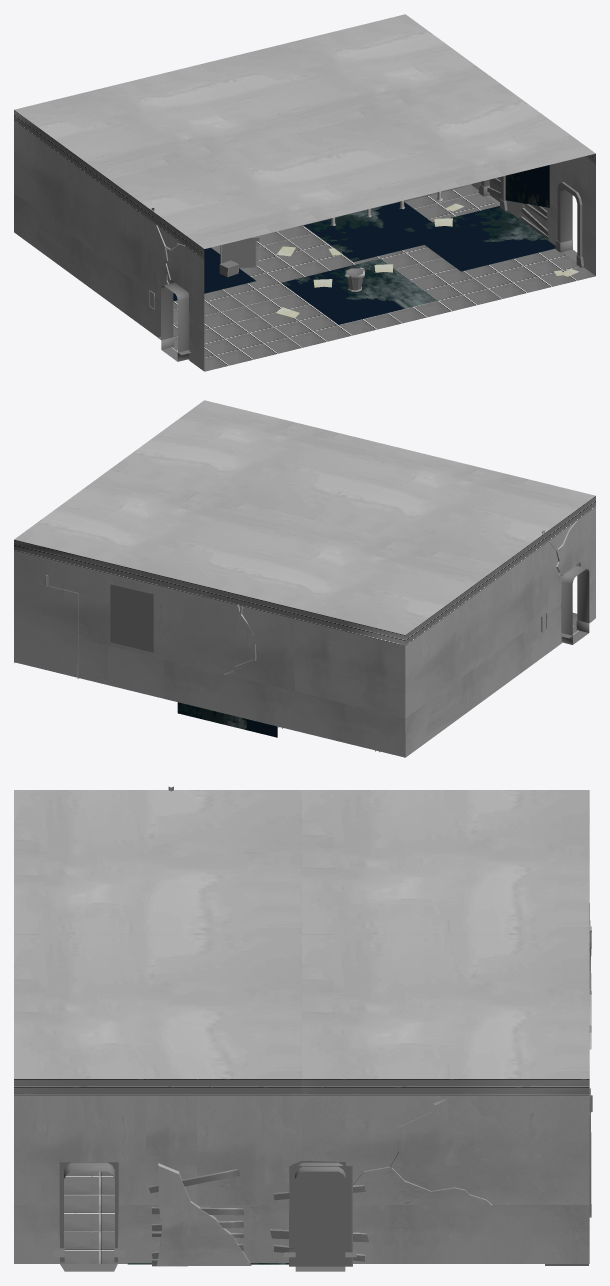
Rendered from MSH_QuestStandard_L4_R2_optimized.fbx.
The picture shows the model from 3 angles, top to bottom: view 1: azimuth 30°, elevation 25°; view 2: azimuth 150°, elevation 25°; view 3: azimuth 270°, elevation 25°; orthographic projection. The views are drawn at different scales.
Visible parts, largest first — view 1: lightmap3, lightmap1, lightmap4, lightmap0, lightmap-1; view 2: lightmap3, lightmap1, lightmap0; view 3: lightmap3, lightmap1, lightmap0, lightmap4.
Boxes of the visible parts, left/top/right/bottom form: lightmap3: left=14, top=14, right=595, bottom=248; lightmap1: left=14, top=110, right=595, bottom=371; lightmap4: left=171, top=185, right=595, bottom=371; lightmap0: left=149, top=165, right=555, bottom=324; lightmap-1: left=276, top=203, right=578, bottom=318; lightmap3: left=14, top=400, right=595, bottom=634; lightmap1: left=14, top=496, right=595, bottom=757; lightmap0: left=14, top=530, right=546, bottom=737; lightmap3: left=14, top=790, right=589, bottom=1078; lightmap1: left=14, top=903, right=591, bottom=1271; lightmap0: left=127, top=786, right=592, bottom=1266; lightmap4: left=60, top=1171, right=117, bottom=1263.
Bounding box in the file's own units: 20.61 × 6.57 × 16.7.
4 materials, 4 textured.
